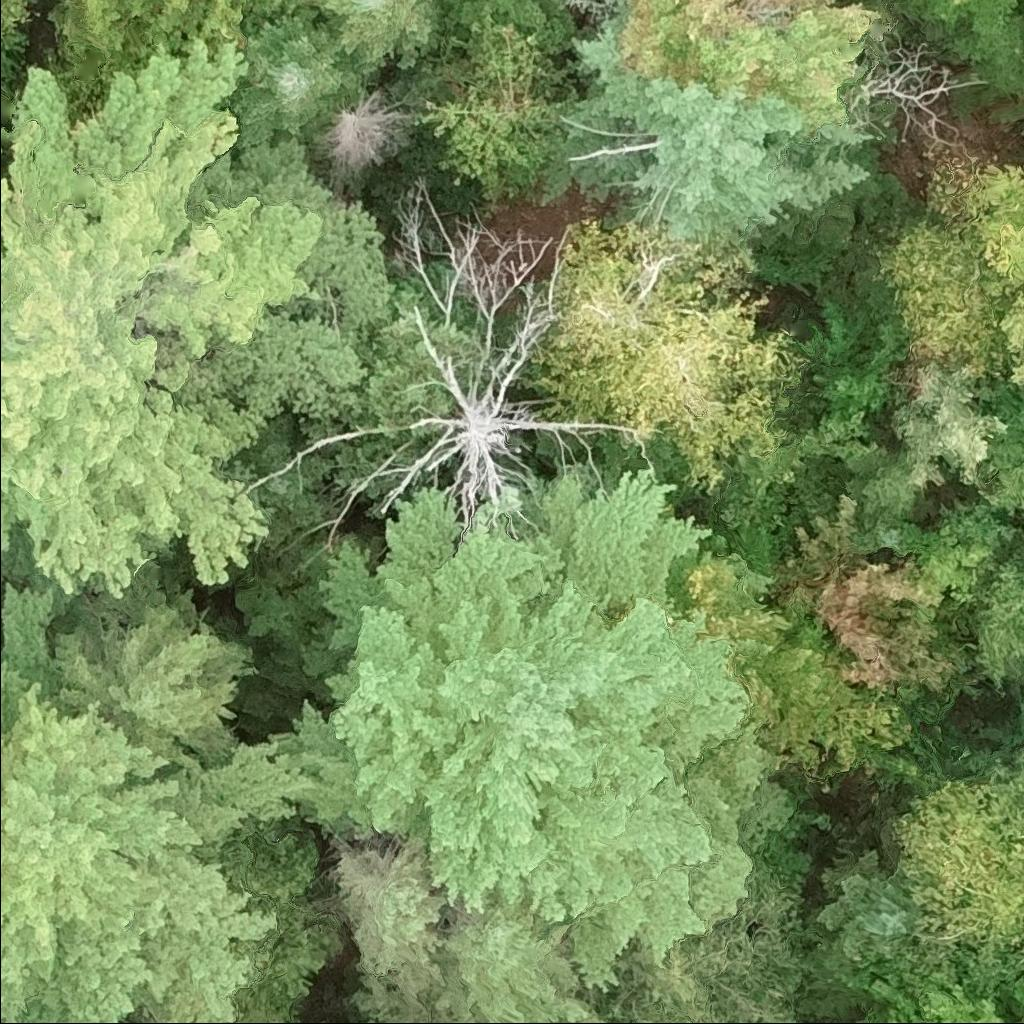crown: (262, 465, 803, 1003), (0, 35, 338, 632), (227, 172, 621, 565), (0, 582, 321, 1023), (539, 0, 875, 255), (529, 219, 818, 500), (182, 190, 479, 442), (677, 545, 913, 776), (47, 559, 262, 768), (771, 495, 977, 695), (616, 0, 882, 139), (884, 740, 1023, 997), (593, 873, 807, 1023), (41, 0, 308, 119), (422, 7, 584, 199), (429, 899, 609, 1023), (878, 215, 1018, 370), (336, 834, 457, 1007), (223, 5, 364, 151), (801, 839, 922, 972), (888, 359, 1012, 488), (953, 161, 1023, 387), (889, 0, 1023, 96), (320, 86, 417, 192), (305, 0, 443, 74), (249, 456, 331, 547), (437, 0, 582, 51), (971, 554, 1023, 689), (853, 978, 1003, 1023), (971, 385, 1023, 512), (0, 0, 44, 88), (850, 508, 922, 555), (994, 961, 1023, 1023), (612, 1005, 700, 1023), (6, 1017, 33, 1023), (951, 0, 964, 5)
